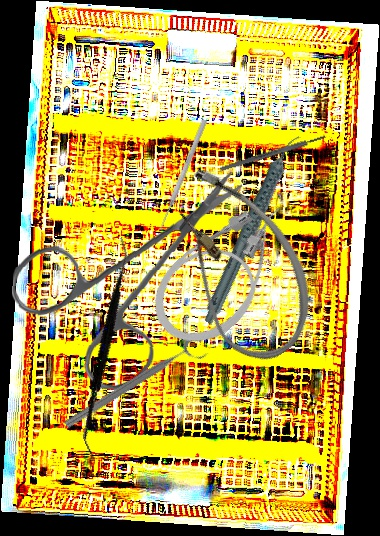Cannula: (135, 151, 340, 377), (136, 186, 317, 362)
Fixation Ring: (61, 332, 211, 440)
Handpiece: (169, 132, 338, 327)
Iris Scissors: (7, 162, 243, 396)
Pusher: (156, 118, 209, 232)
Scalpel Handle: (218, 133, 328, 173)
Spatula Surgical: (21, 236, 192, 457)
